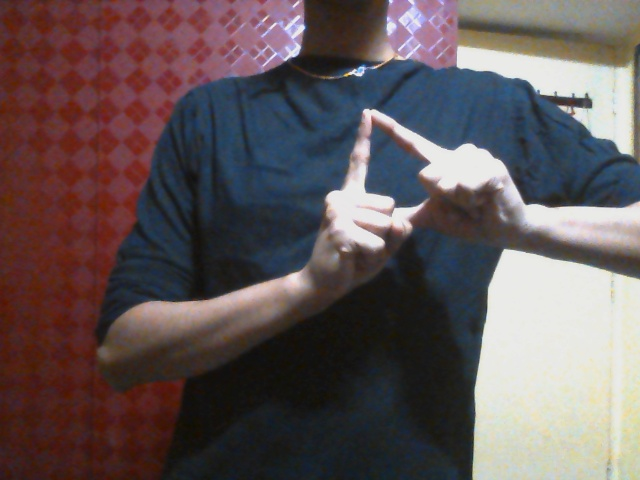D: (304, 104, 521, 284)
